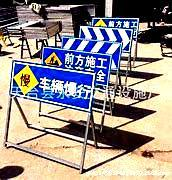sign: (11, 66, 95, 100), (43, 49, 106, 70), (92, 18, 139, 28)
